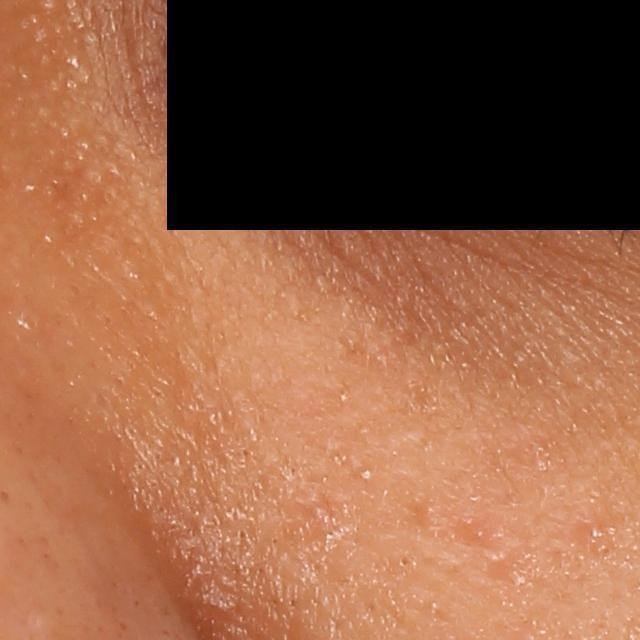comedo: (396, 552, 414, 572), (359, 467, 376, 485)
